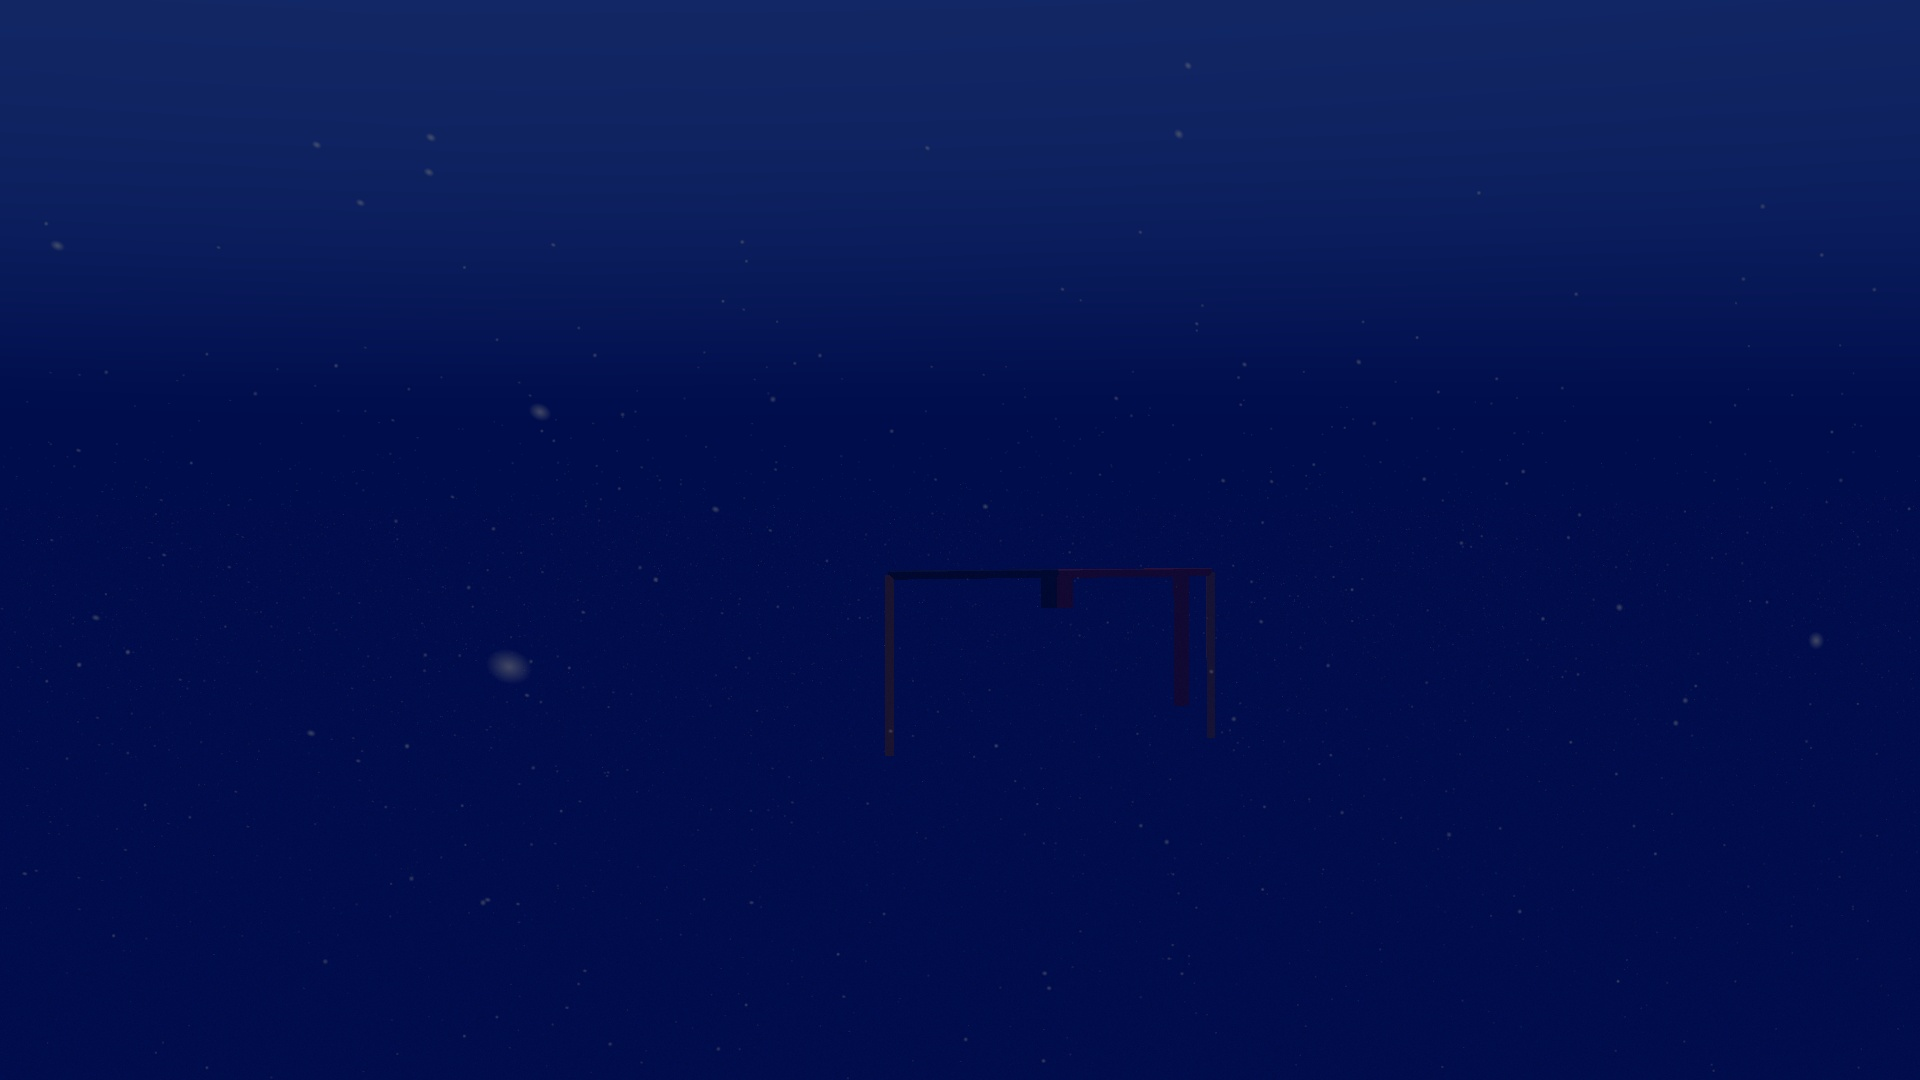Gate: (876, 560, 1222, 764)
